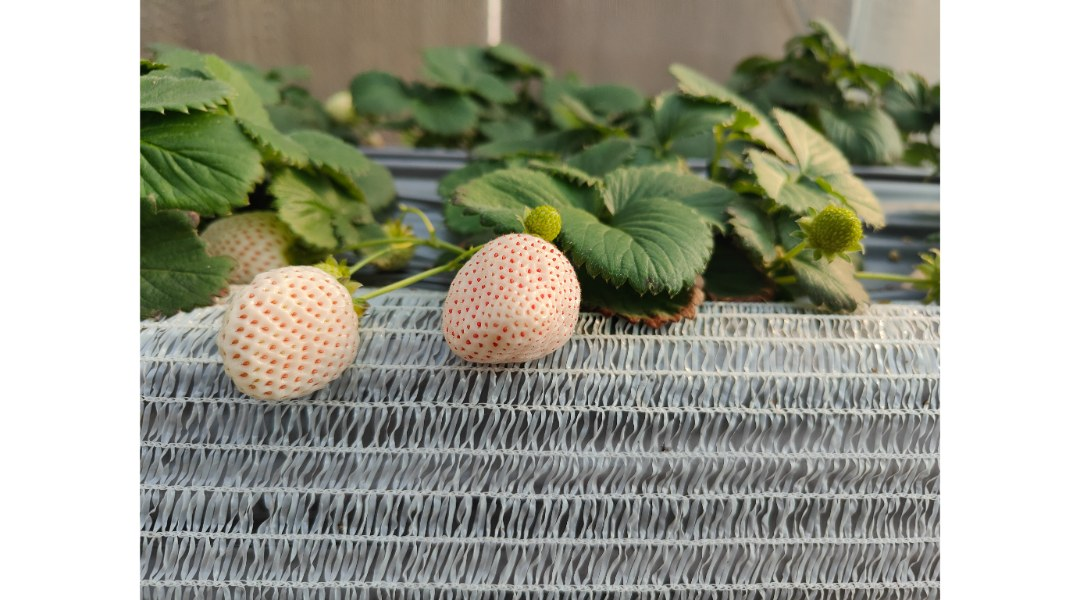berry: (209, 257, 362, 420), (449, 237, 601, 374), (810, 201, 876, 258), (512, 195, 566, 252)
strain: (345, 263, 443, 311)
